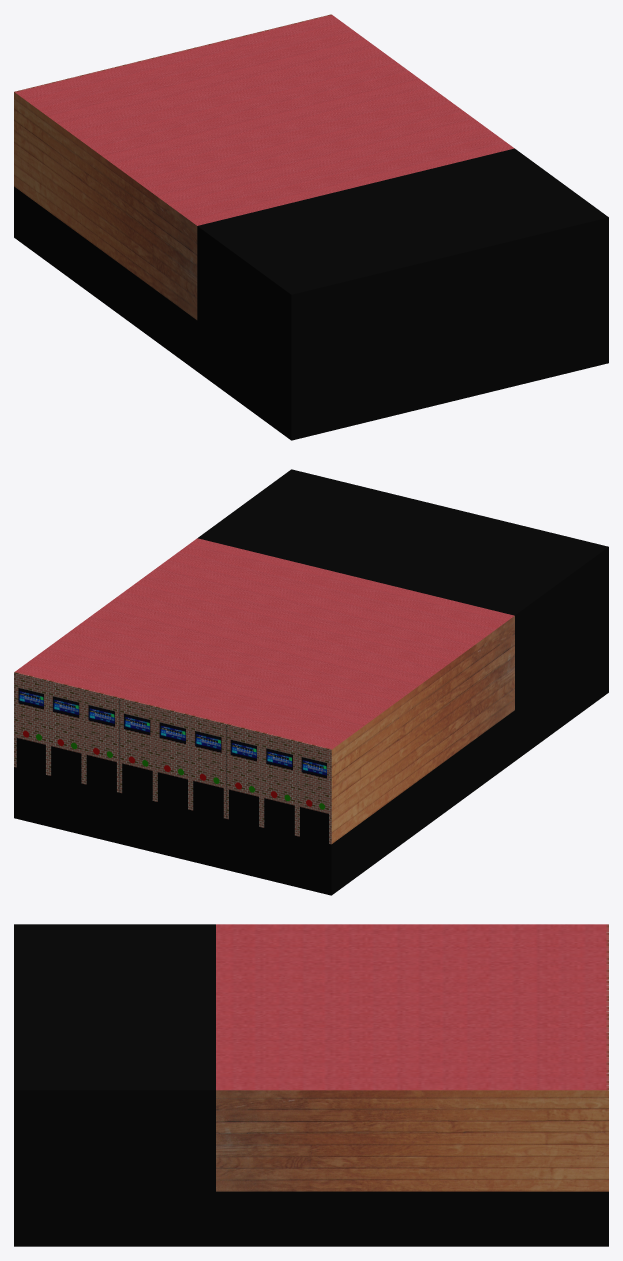
The model's file is walls.obj.
3 renders of one model, top to bottom at view 1: azimuth 30°, elevation 25°; view 2: azimuth 150°, elevation 25°; view 3: azimuth 270°, elevation 25°, orthographic. The views are drawn at different scales.
Visible parts, largest first — view 1: Cube; view 2: Cube; view 3: Cube.
Part boxes in pixels (x1=…): Cube: x1=14, y1=14, x2=608, y2=440; Cube: x1=14, y1=469, x2=608, y2=895; Cube: x1=14, y1=924, x2=608, y2=1246.
Size of the model in its own units: 34.16 by 14.99 by 51.71.
